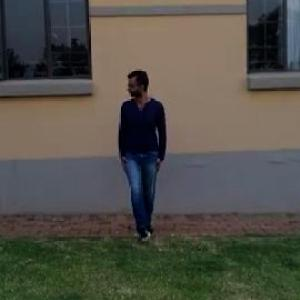follow: (117, 68, 167, 236)
